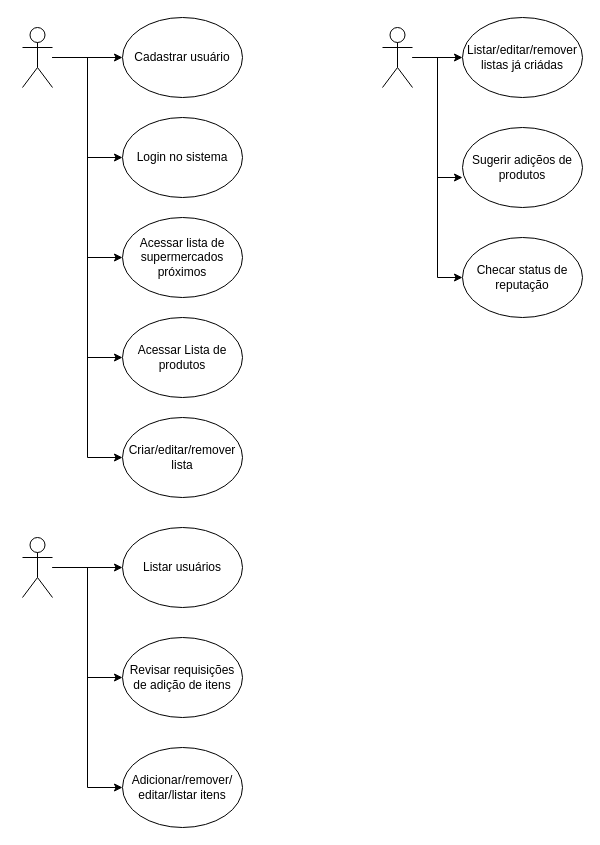
Some shapes in this 600 by 845 pixel diagram are drawn without their labels. Each missing label, with the box of its shape:
Admin: (22, 536, 52, 598)
Usuário: (22, 26, 52, 88)
Usuário Logado: (382, 26, 412, 88)
